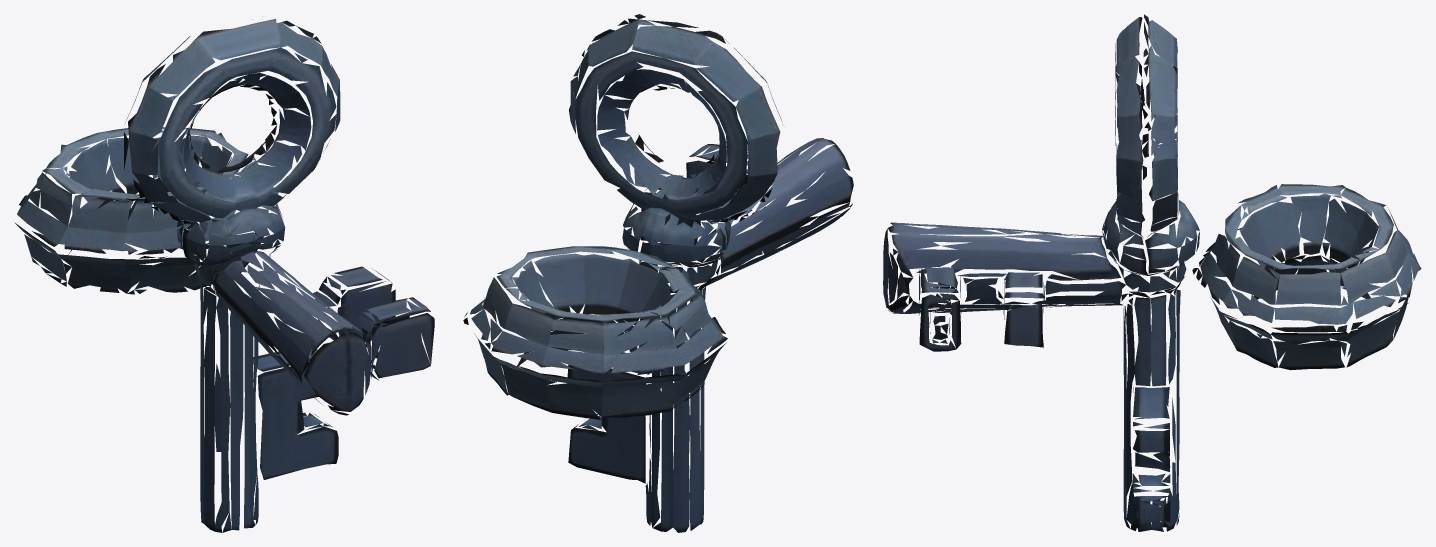
The picture shows the model from 3 angles, left to right: view 1: azimuth 30°, elevation 25°; view 2: azimuth 150°, elevation 25°; view 3: azimuth 270°, elevation 25°; orthographic projection. The views are drawn at different scales.
Parts seen in each view (by area): view 1: world.001; view 2: world.001; view 3: world.001.
Boxes of the visible parts, <box> form: world.001: <box>15,16,434,532</box>; world.001: <box>463,14,853,532</box>; world.001: <box>883,14,1421,531</box>.
Size of the model in its own units: 0.4863 by 1 by 0.9949.
Materials: 1 (1 with a texture image).
